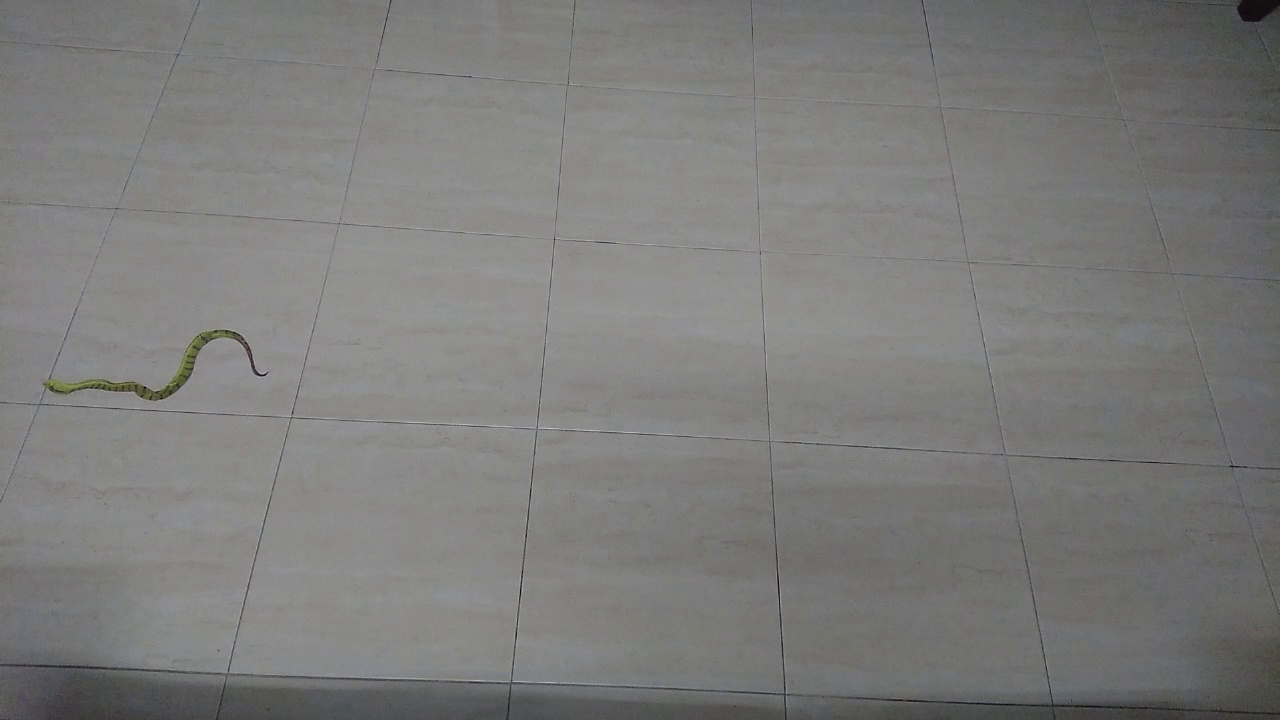snake: (27, 313, 290, 420)
